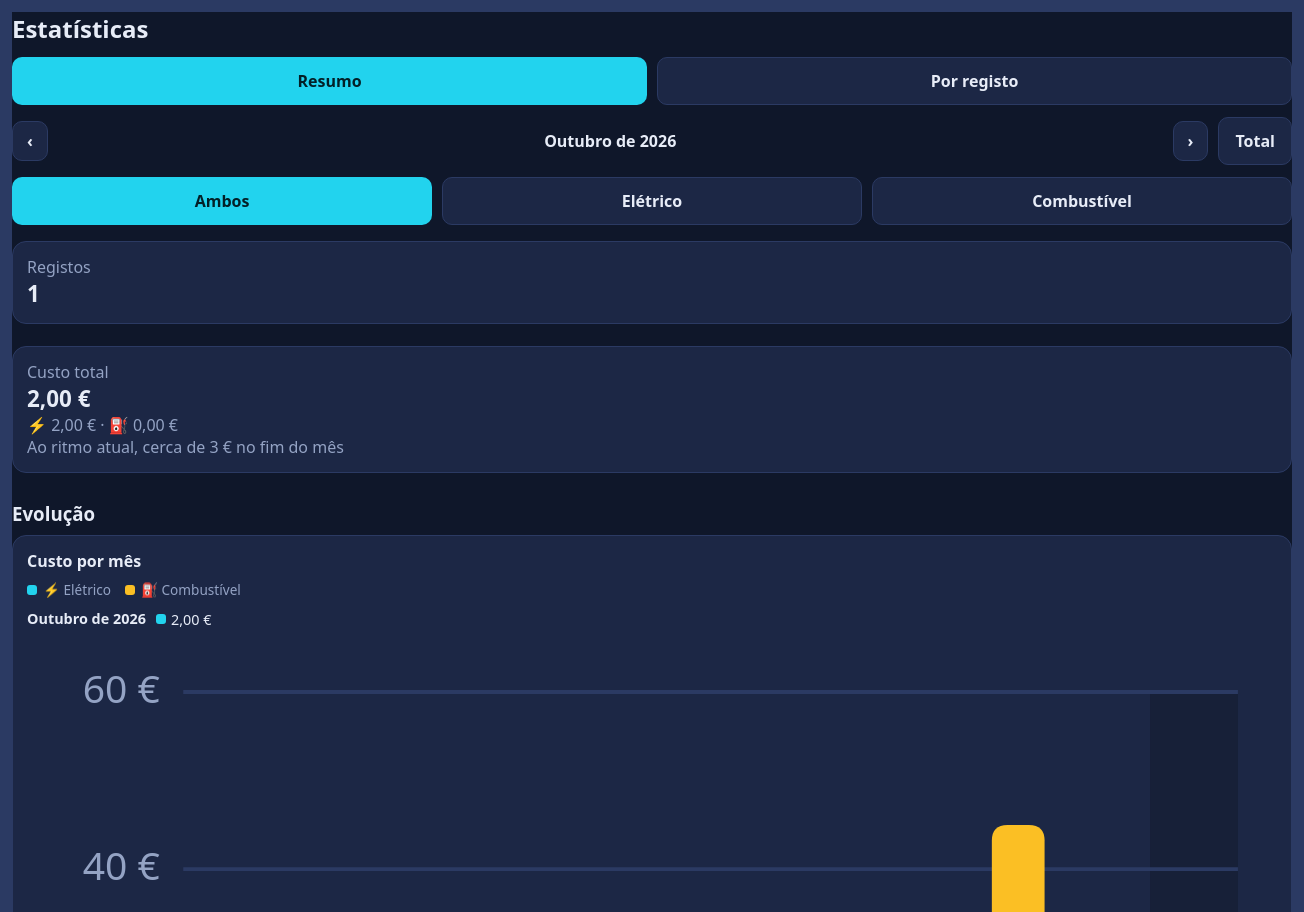
Test: StatsScreen › shows every entry when Total is selected, regardless of month
Click the button "Total".
click(1255, 141)  # box [1218, 117, 1292, 165]
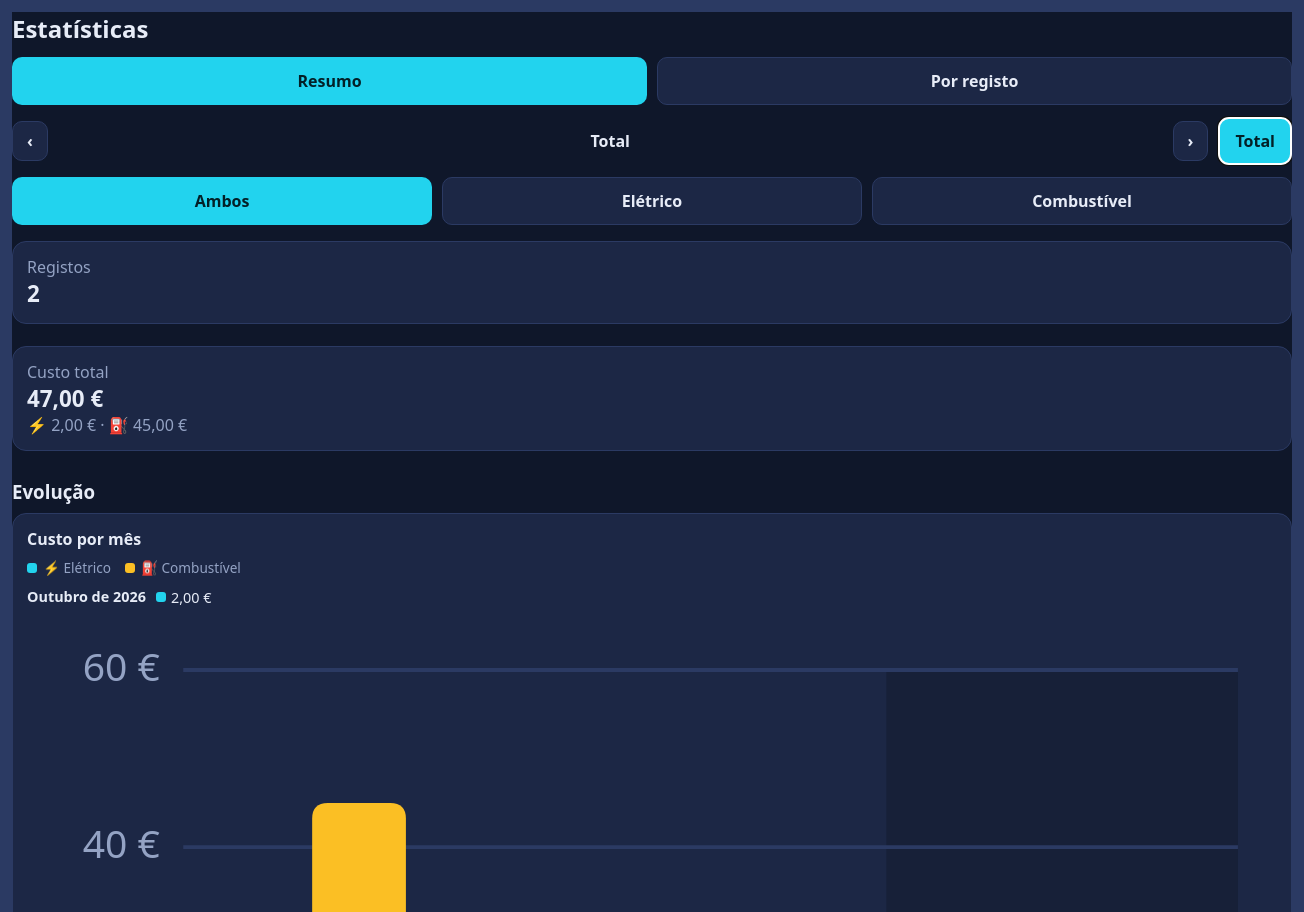
Expected: the text "2" is shown, [27, 278, 40, 309]
